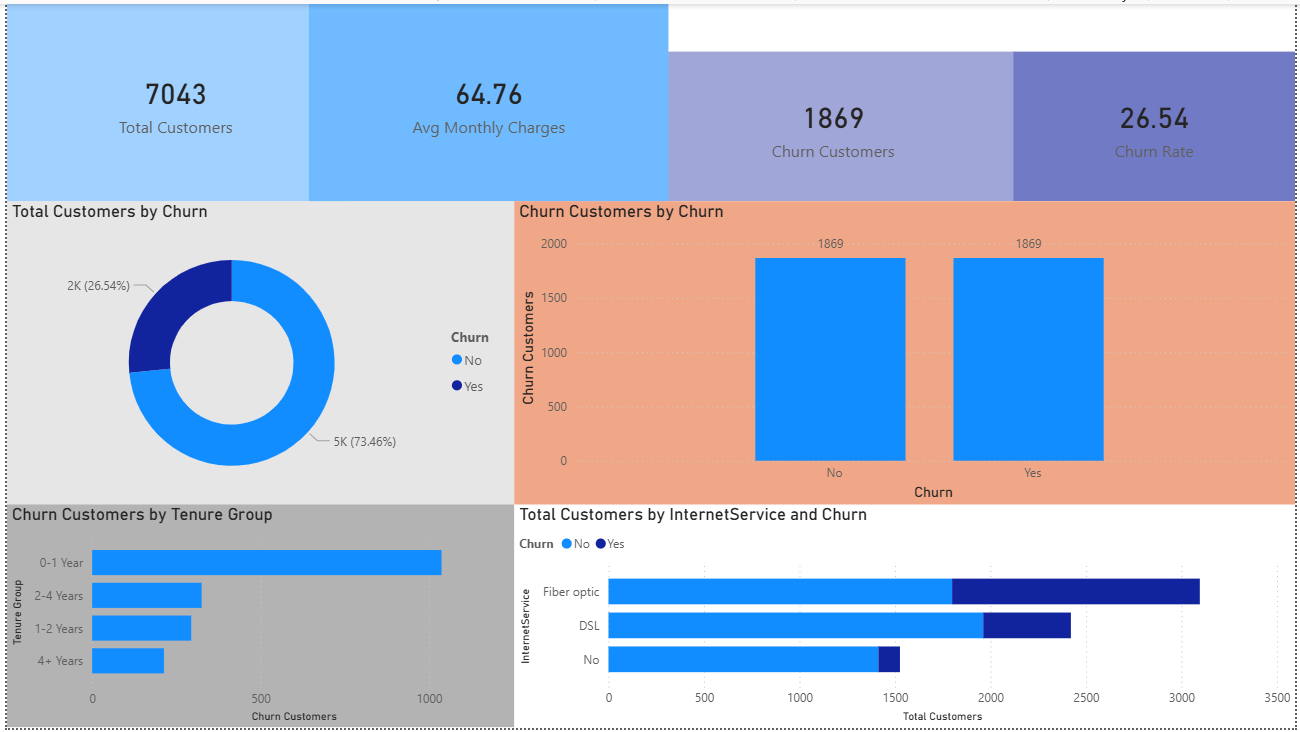

The dashboard page shown, as its layout file describes it:
{"tool":"powerbi","page":{"name":"Executive Summary & Customer Overview","canvas":[1280,720],"ordinal":0},"visuals":[{"type":"card","fields":{"Values":["WA_Fn-UseC_-Telco-Customer-Churn.Total Customers"]},"box":[0,0,335.2,196.1],"z":0},{"type":"card","fields":{"Values":["WA_Fn-UseC_-Telco-Customer-Churn.Churn Customers"]},"box":[640.3,47.4,360.5,148.6],"z":1},{"type":"card","fields":{"Values":["WA_Fn-UseC_-Telco-Customer-Churn.Churn Rate"]},"box":[1000.8,47.4,279.9,148.6],"z":2},{"type":"card","fields":{"Values":["WA_Fn-UseC_-Telco-Customer-Churn.Avg Monthly Charges"]},"box":[300.4,0,357.3,196.1],"z":3},{"type":"donutChart","fields":{"Category":["WA_Fn-UseC_-Telco-Customer-Churn.Churn"],"Y":["WA_Fn-UseC_-Telco-Customer-Churn.Total Customers"]},"box":[0,196.1,504.4,302],"z":4},{"type":"clusteredColumnChart","fields":{"Category":["WA_Fn-UseC_-Telco-Customer-Churn.Churn"],"Y":["WA_Fn-UseC_-Telco-Customer-Churn.Churn Customers"]},"box":[504.4,196.1,776.3,302],"z":5},{"type":"clusteredBarChart","fields":{"Category":["WA_Fn-UseC_-Telco-Customer-Churn.Tenure Group"],"Y":["WA_Fn-UseC_-Telco-Customer-Churn.Churn Customers"]},"box":[0,498,504.4,221.4],"z":6},{"type":"barChart","fields":{"Series":["WA_Fn-UseC_-Telco-Customer-Churn.Churn"],"Category":["WA_Fn-UseC_-Telco-Customer-Churn.InternetService"],"Y":["WA_Fn-UseC_-Telco-Customer-Churn.Total Customers"]},"box":[504,498,776,221],"z":7}]}

Visuals, with their boxes in screenshot pixels (x1, y1, x2, y2), scaled from the page's 1280x720 canvas onto the 1300x732 screenshot:
card - WA_Fn-UseC_-Telco-Customer-Churn.Total Customers: rect(0, 0, 340, 199)
card - WA_Fn-UseC_-Telco-Customer-Churn.Churn Customers: rect(650, 48, 1016, 199)
card - WA_Fn-UseC_-Telco-Customer-Churn.Churn Rate: rect(1016, 48, 1299, 199)
card - WA_Fn-UseC_-Telco-Customer-Churn.Avg Monthly Charges: rect(305, 0, 668, 199)
donutChart - WA_Fn-UseC_-Telco-Customer-Churn.Churn x WA_Fn-UseC_-Telco-Customer-Churn.Total Customers: rect(0, 199, 512, 506)
clusteredColumnChart - WA_Fn-UseC_-Telco-Customer-Churn.Churn x WA_Fn-UseC_-Telco-Customer-Churn.Churn Customers: rect(512, 199, 1299, 506)
clusteredBarChart - WA_Fn-UseC_-Telco-Customer-Churn.Tenure Group x WA_Fn-UseC_-Telco-Customer-Churn.Churn Customers: rect(0, 506, 512, 731)
barChart - WA_Fn-UseC_-Telco-Customer-Churn.Churn x WA_Fn-UseC_-Telco-Customer-Churn.InternetService: rect(512, 506, 1299, 731)
